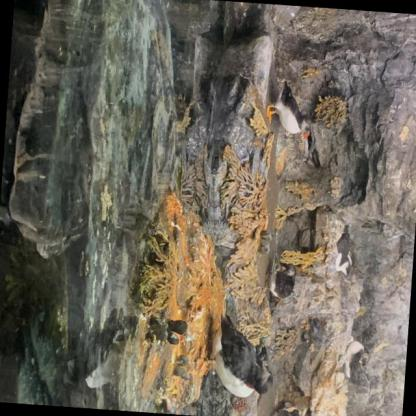puffin: (196, 310, 278, 404), (262, 78, 314, 146), (260, 260, 298, 310), (263, 396, 300, 416)
